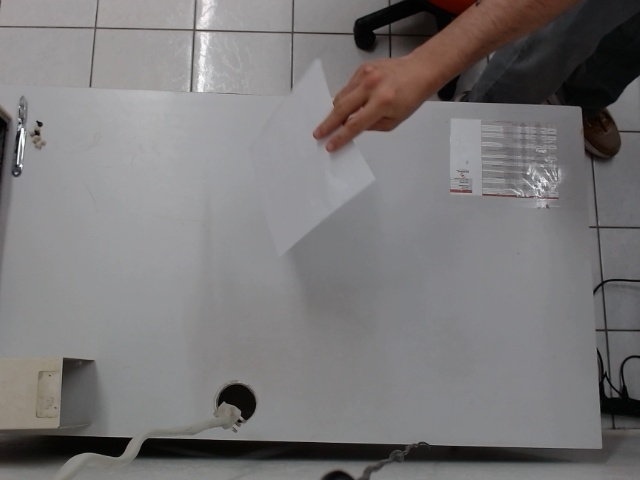divisor: (231, 58, 378, 257)
